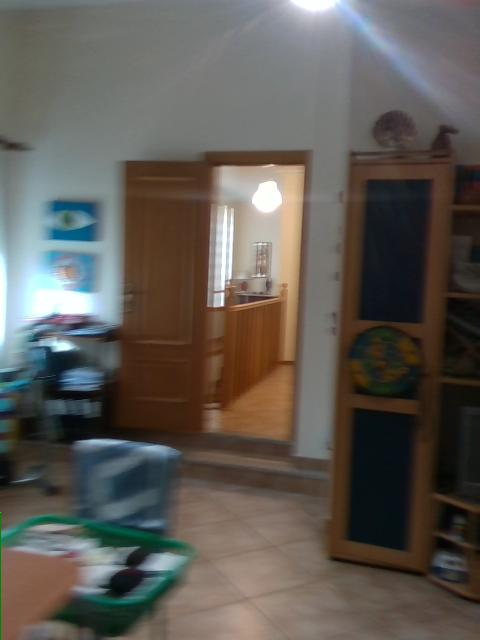open_door: (194, 147, 313, 460)
